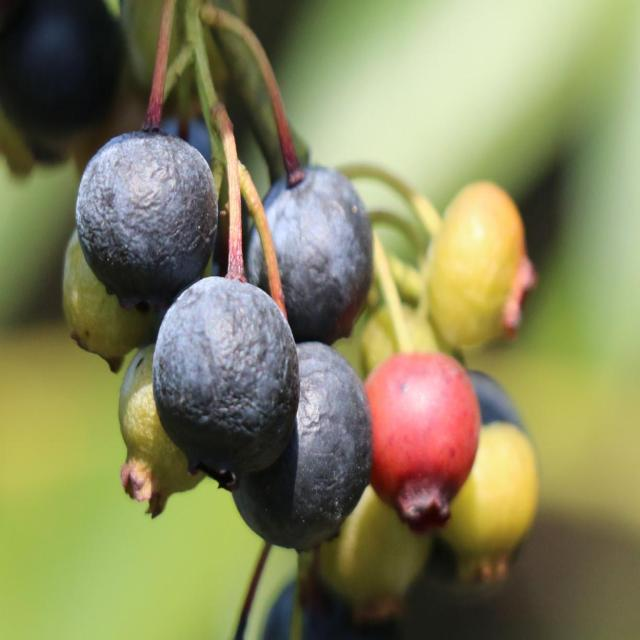blueberry: (154, 272, 298, 478), (228, 341, 364, 544), (74, 128, 218, 300), (246, 164, 373, 344), (443, 372, 534, 580)
blueberry-halfripe: (358, 347, 476, 501)
blueberry-unripe: (422, 182, 533, 352)
